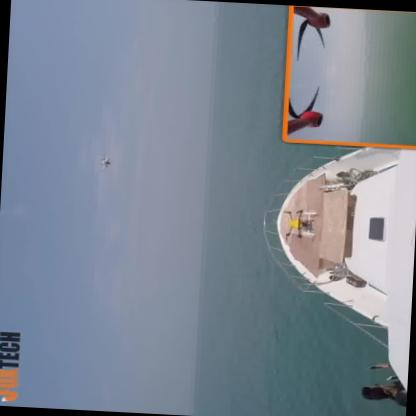drone: (94, 151, 119, 172)
